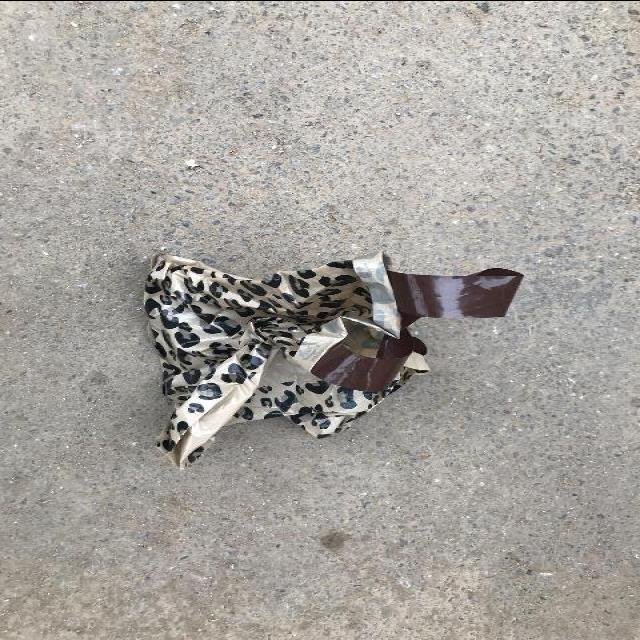plastic bag: (144, 252, 524, 472)
